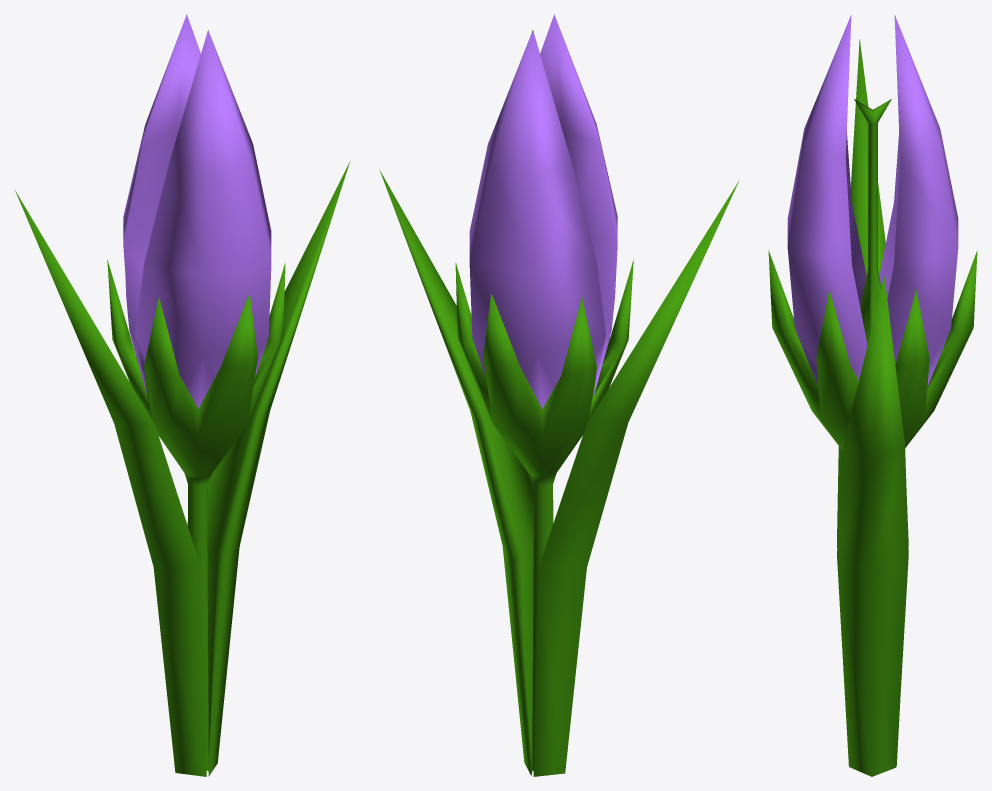
Rendered from Crocus1_Purple.fbx.
3 renders of one model, left to right at view 1: azimuth 30°, elevation 25°; view 2: azimuth 150°, elevation 25°; view 3: azimuth 270°, elevation 25°, orthographic.
Parts seen in each view (by area): view 1: crocus; view 2: crocus; view 3: crocus.
Part boxes in pixels (bbox=[...]): crocus: bbox=[14, 14, 350, 776]; crocus: bbox=[379, 14, 739, 776]; crocus: bbox=[768, 15, 977, 776].
Size of the model in its own units: 57.1 by 117 by 29.38.
